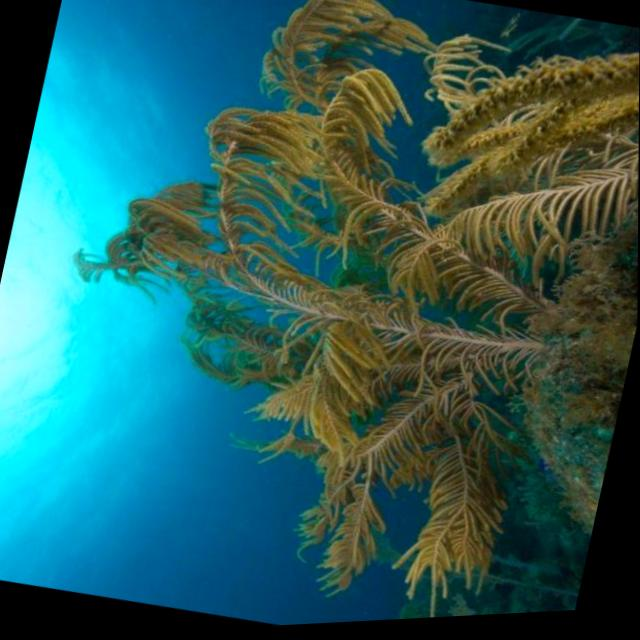Healthy Coral: (11, 0, 640, 639)
